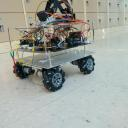cart: (7, 21, 96, 92)
